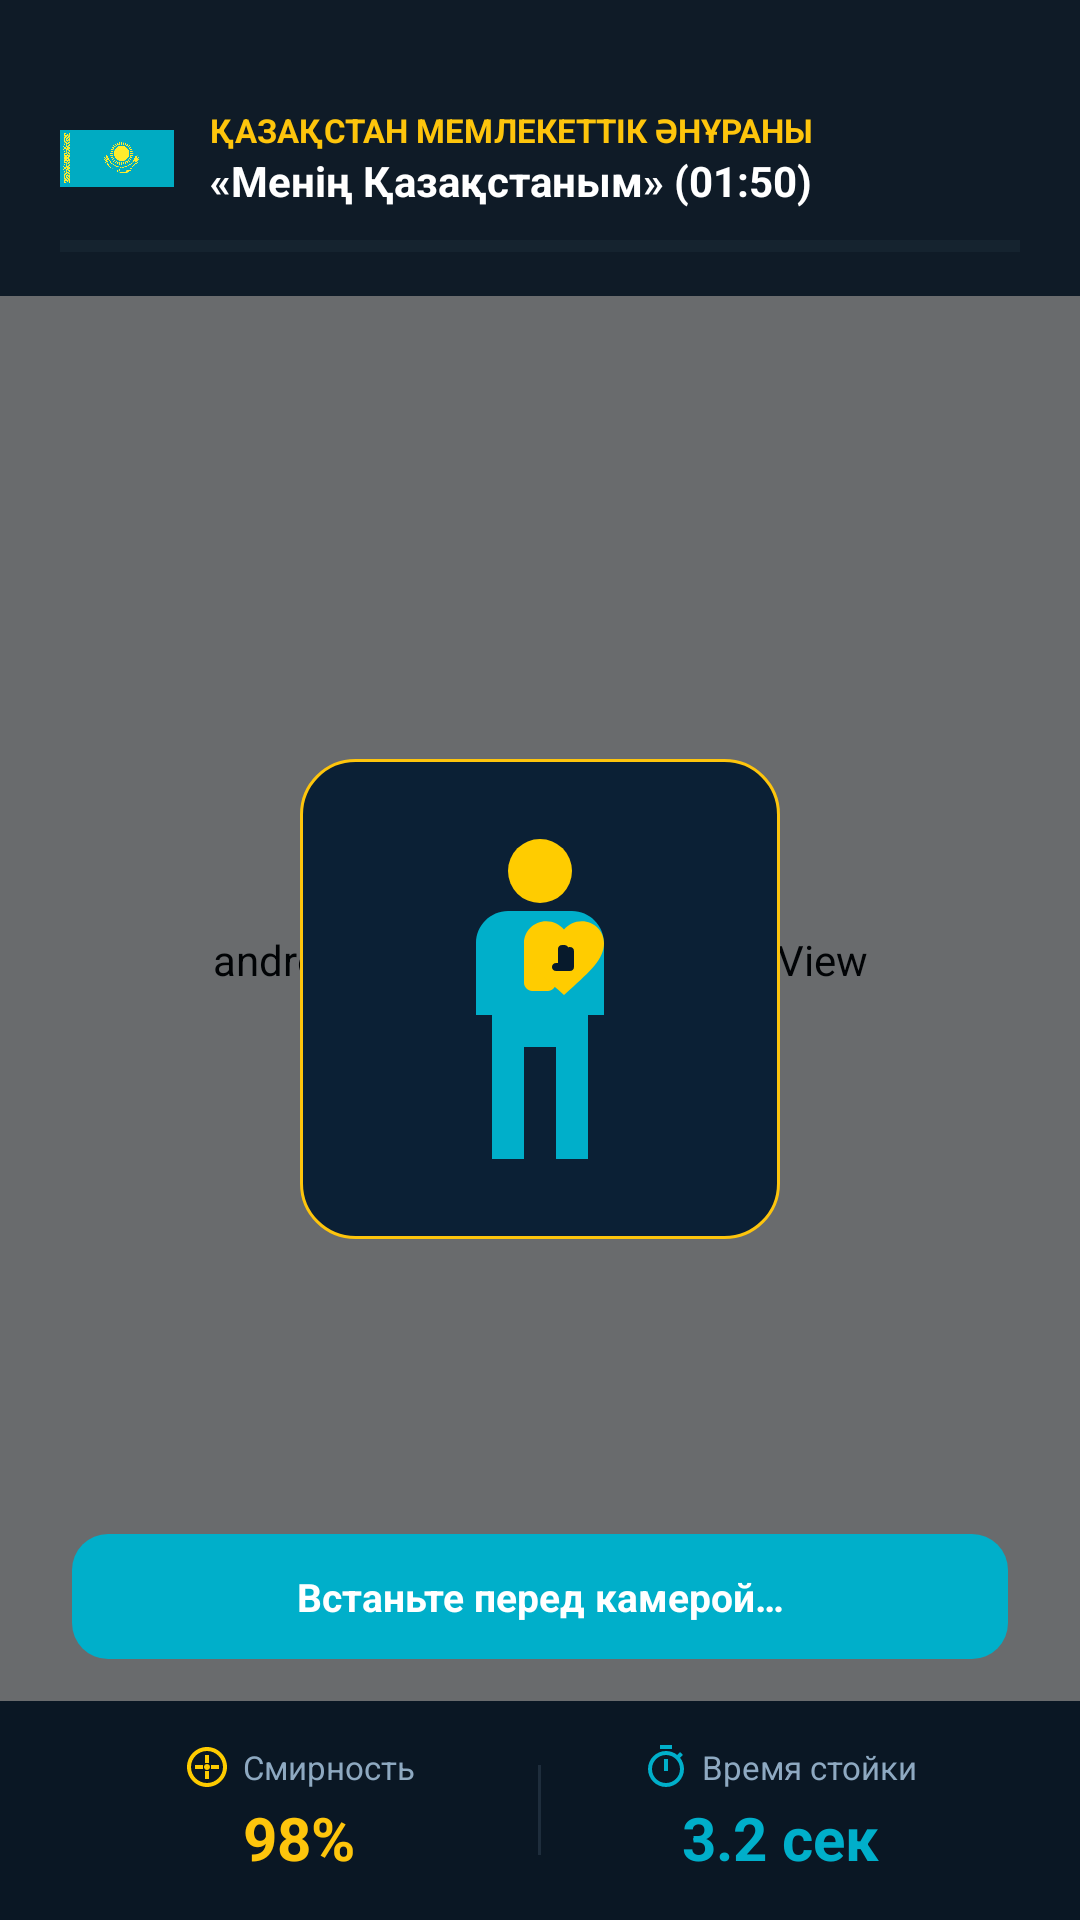

Icons on this 1080*1920 Android screen, each with the point to tap as (x,y):
flag kz: (117,158)
Reaction time: (666,1766)
